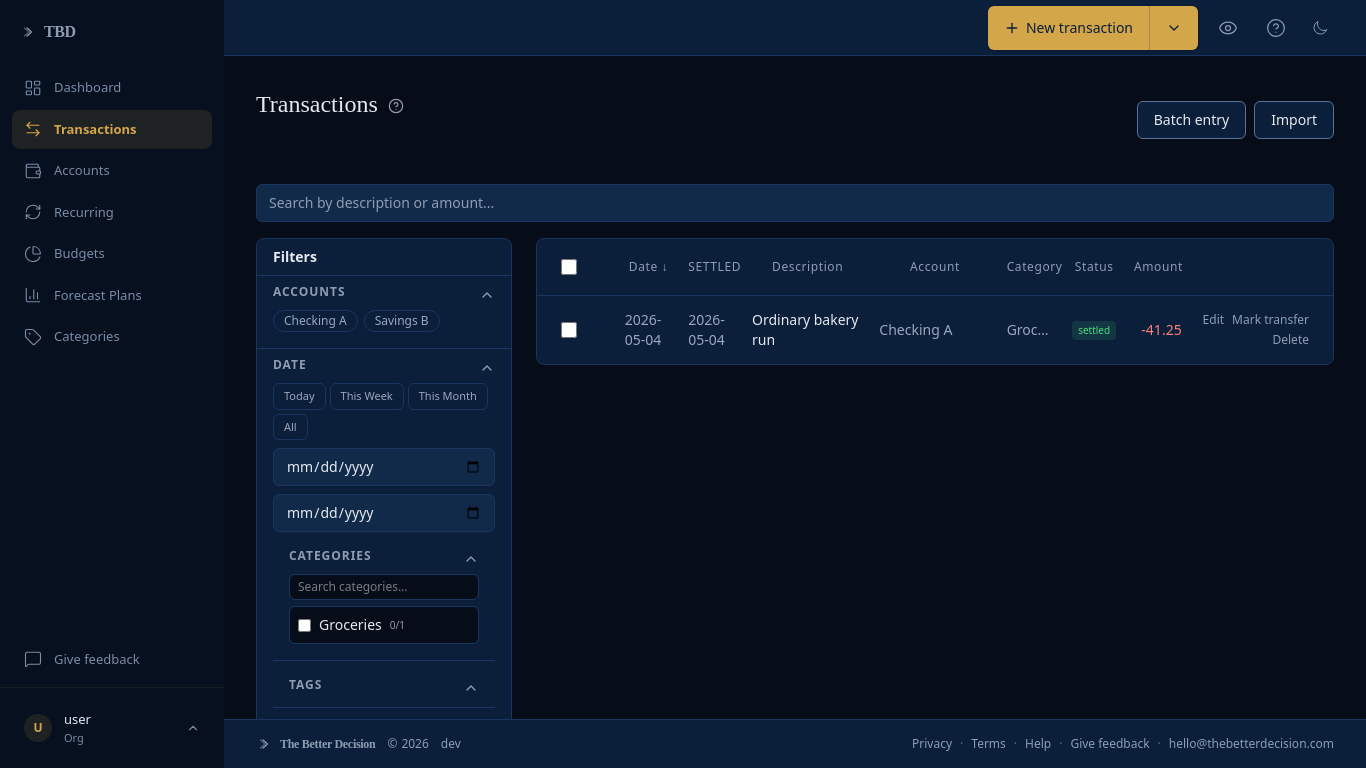
Test: TBD-294 — the delete says what it did › reports a demoted duplicate after a single delete
The width and height of the screenshot is (1366, 768).
Click the button "Delete" at (1291, 340), box [1272,332,1309,348]
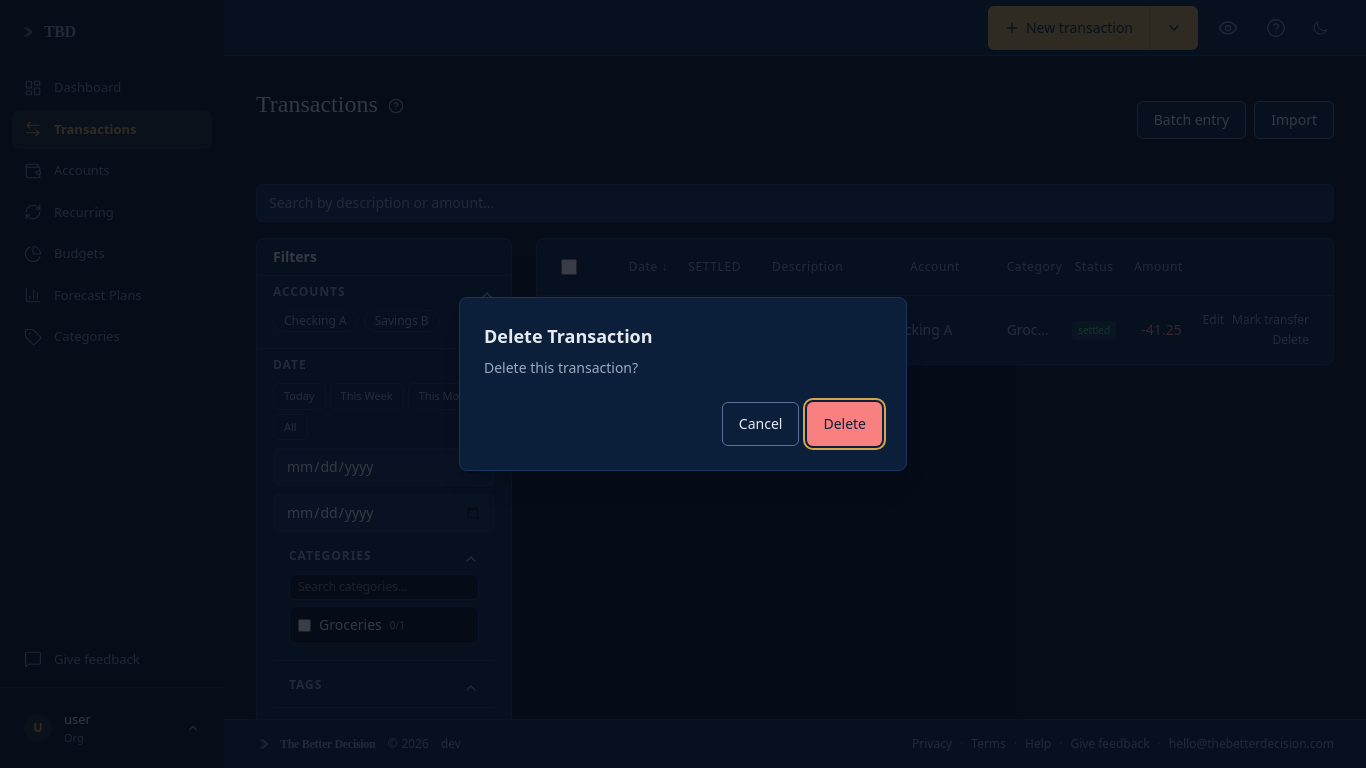
Click the button "Delete" at (845, 424), box [807,402,882,446]
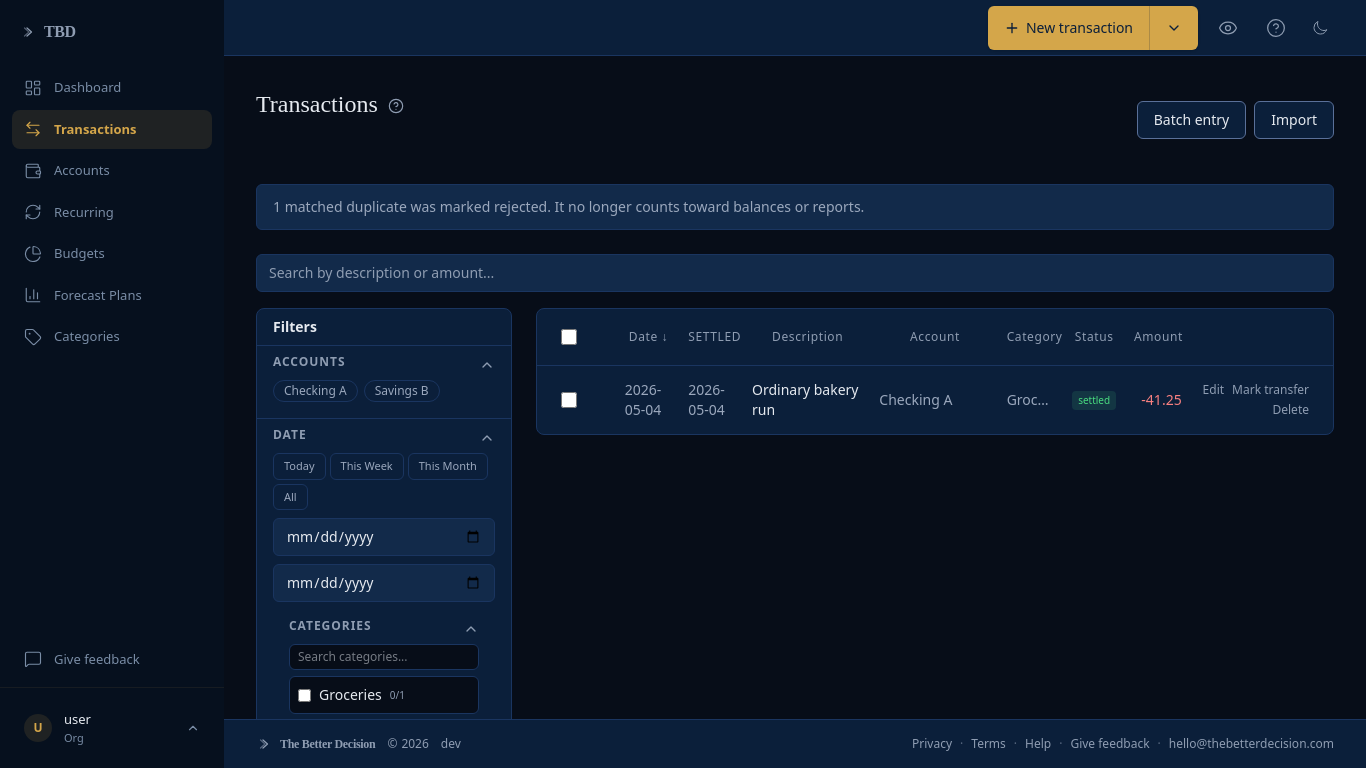
Expected: the text with test id "transactions-notice" shows "1 matched duplicate was marked rejected", [273,197,864,216]
Expected: the text with test id "transactions-notice" shows "balances or reports", [273,197,864,216]
